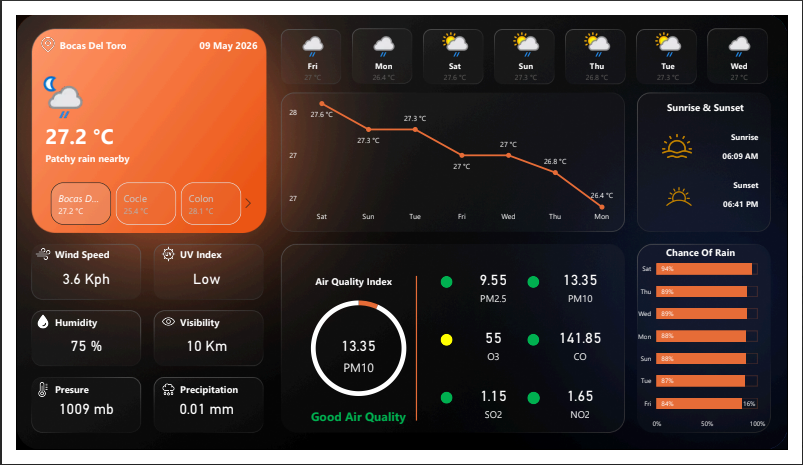

The dashboard page shown, as its layout file describes it:
{"tool":"powerbi","page":{"name":"Day","canvas":[1280,720],"ordinal":0},"visuals":[{"type":"shape","box":[512,432,304,240],"z":1000},{"type":"advancedSlicerVisual","fields":{"Values":["City.location.name"],"Label":["MeasureTable.Current_Temp_C"]},"box":[32,272,368,80],"z":2000},{"type":"shape","box":[48,176,192,48],"z":3000},{"type":"shape","box":[48,224,352,24],"z":4000},{"type":"shape","box":[72,32,128,32],"z":5000},{"type":"shape","box":[304,32,168,32],"z":6000},{"type":"image","box":[40,32,24,32],"z":7000},{"type":"cardVisual","fields":{"Data":["Min(Current Data.current.condition.icon)"]},"box":[8,80,144,112],"z":8000},{"type":"image","box":[32,384,24,24],"z":9000},{"type":"shape","box":[64,384,128,24],"z":10000},{"type":"image","box":[32,496,24,24],"z":11000},{"type":"image","box":[32,608,24,24],"z":12000},{"type":"image","box":[240,384,24,24],"z":13000},{"type":"image","box":[240,496,24,24],"z":14000},{"type":"image","box":[240,608,24,24],"z":15000},{"type":"shape","box":[64,496,128,24],"z":16000},{"type":"shape","box":[272,496,128,24],"z":17000},{"type":"shape","box":[272,384,128,24],"z":18000},{"type":"shape","box":[272,608,128,24],"z":19000},{"type":"shape","box":[64,608,128,24],"z":20000},{"type":"card","fields":{"Values":["MeasureTable.HumidityM"]},"box":[32,528,168,40],"z":21000},{"type":"card","fields":{"Values":["MeasureTable.WindM"]},"box":[32,416,168,40],"z":22000},{"type":"card","fields":{"Values":["MeasureTable.UVIndexM"]},"box":[232,416,168,40],"z":23000},{"type":"card","fields":{"Values":["MeasureTable.VisibilityM"]},"box":[232,528,168,40],"z":24000},{"type":"card","fields":{"Values":["MeasureTable.PrecipitationM"]},"box":[232,632,168,40],"z":25000},{"type":"card","fields":{"Values":["MeasureTable.PresureM"]},"box":[32,632,168,40],"z":26000},{"type":"advancedSlicerVisual","fields":{"Values":["Forcast Day.Day_Name"]},"box":[432,16,832,112],"z":27000},{"type":"lineChart","fields":{"Category":["Forcast Day.Day_Name"],"Y":["Avg(Forcast Day.forecast.forecastday.day.avgtemp_c)"]},"box":[448,128,560,224],"z":28000},{"type":"shape","box":[1024,208,208,48],"z":29000},{"type":"shape","box":[1024,288,208,48],"z":30000},{"type":"shape","box":[1024,256,208,48],"z":31000},{"type":"shape","box":[1024,176,208,48],"z":32000},{"type":"shape","box":[1040,128,208,48],"z":33000},{"type":"image","box":[1072,192,48,48],"z":34000},{"type":"image","box":[1072,272,56,56],"z":35000},{"type":"barChart","title":"Chance of Rain","fields":{"Category":["Forecast Day.Day_Name"],"Y":["MeasureTable.ChanceRainM","MeasureTable.LeftRain"]},"box":[1024,384,224,312],"z":36000},{"type":"shape","box":[1032,368,208,48],"z":37000},{"type":"card","fields":{"Values":["Sum(Current Data.current.air_quality.pm10)"]},"box":[864,400,144,96],"z":38000},{"type":"shape","box":[464,416,192,48],"z":39000},{"type":"card","fields":{"Values":["Sum(Current Data.current.air_quality.co)"]},"box":[864,496,144,96],"z":40000},{"type":"card","fields":{"Values":["Sum(Current Data.current.air_quality.no2)"]},"box":[864,592,144,96],"z":41000},{"type":"card","fields":{"Values":["Sum(Current Data.current.air_quality.so2)"]},"box":[720,592,144,96],"z":42000},{"type":"card","fields":{"Values":["Sum(Current Data.current.air_quality.pm2_5)"]},"box":[720,400,144,96],"z":43000},{"type":"card","fields":{"Values":["Sum(Current Data.current.air_quality.o3)"]},"box":[720,496,144,96],"z":44000},{"type":"shape","box":[704,432,20,20],"z":45000},{"type":"shape","box":[704,528,20,20],"z":46000},{"type":"shape","box":[704,624,20,20],"z":47000},{"type":"shape","box":[848,624,21,21],"z":48000},{"type":"shape","box":[848,528,20,20],"z":49000},{"type":"shape","box":[848,432,20,20],"z":50000},{"type":"donutChart","fields":{"Y":["Sum(Current Data.current.air_quality.pm10)","MeasureTable.PM10max"]},"box":[448,448,240,208],"z":51000},{"type":"card","fields":{"Values":["Sum(Current Data.current.air_quality.pm10)"]},"box":[496,512,144,96],"z":52000},{"type":"shape","box":[448,640,240,48],"z":53000}]}

Visuals, with their boxes in screenshot pixels (x1, y1, x2, y2), scaled from the page's 1280x720 canvas onto the 803x465 screenshot:
shape: select_region(321, 279, 512, 434)
advancedSlicerVisual - City.location.name x MeasureTable.Current_Temp_C: select_region(20, 176, 251, 227)
shape: select_region(30, 114, 151, 145)
shape: select_region(30, 145, 251, 160)
shape: select_region(45, 21, 125, 41)
shape: select_region(191, 21, 296, 41)
image: select_region(25, 21, 40, 41)
cardVisual - Min(Current Data.current.condition.icon): select_region(5, 52, 95, 124)
image: select_region(20, 248, 35, 264)
shape: select_region(40, 248, 120, 264)
image: select_region(20, 320, 35, 336)
image: select_region(20, 393, 35, 408)
image: select_region(151, 248, 166, 264)
image: select_region(151, 320, 166, 336)
image: select_region(151, 393, 166, 408)
shape: select_region(40, 320, 120, 336)
shape: select_region(171, 320, 251, 336)
shape: select_region(171, 248, 251, 264)
shape: select_region(171, 393, 251, 408)
shape: select_region(40, 393, 120, 408)
card - MeasureTable.HumidityM: select_region(20, 341, 125, 367)
card - MeasureTable.WindM: select_region(20, 269, 125, 294)
card - MeasureTable.UVIndexM: select_region(146, 269, 251, 294)
card - MeasureTable.VisibilityM: select_region(146, 341, 251, 367)
card - MeasureTable.PrecipitationM: select_region(146, 408, 251, 434)
card - MeasureTable.PresureM: select_region(20, 408, 125, 434)
advancedSlicerVisual - Forcast Day.Day_Name: select_region(271, 10, 793, 83)
lineChart - Forcast Day.Day_Name x Avg(Forcast Day.forecast.forecastday.day.avgtemp_c): select_region(281, 83, 632, 227)
shape: select_region(642, 134, 773, 165)
shape: select_region(642, 186, 773, 217)
shape: select_region(642, 165, 773, 196)
shape: select_region(642, 114, 773, 145)
shape: select_region(652, 83, 783, 114)
image: select_region(673, 124, 703, 155)
image: select_region(673, 176, 708, 212)
"Chance of Rain" barChart: select_region(642, 248, 783, 450)
shape: select_region(647, 238, 778, 269)
card - Sum(Current Data.current.air_quality.pm10): select_region(542, 258, 632, 320)
shape: select_region(291, 269, 412, 300)
card - Sum(Current Data.current.air_quality.co): select_region(542, 320, 632, 382)
card - Sum(Current Data.current.air_quality.no2): select_region(542, 382, 632, 444)
card - Sum(Current Data.current.air_quality.so2): select_region(452, 382, 542, 444)
card - Sum(Current Data.current.air_quality.pm2_5): select_region(452, 258, 542, 320)
card - Sum(Current Data.current.air_quality.o3): select_region(452, 320, 542, 382)
shape: select_region(442, 279, 454, 292)
shape: select_region(442, 341, 454, 354)
shape: select_region(442, 403, 454, 416)
shape: select_region(532, 403, 545, 417)
shape: select_region(532, 341, 545, 354)
shape: select_region(532, 279, 545, 292)
donutChart - Sum(Current Data.current.air_quality.pm10) x MeasureTable.PM10max: select_region(281, 289, 432, 424)
card - Sum(Current Data.current.air_quality.pm10): select_region(311, 331, 402, 393)
shape: select_region(281, 413, 432, 444)
